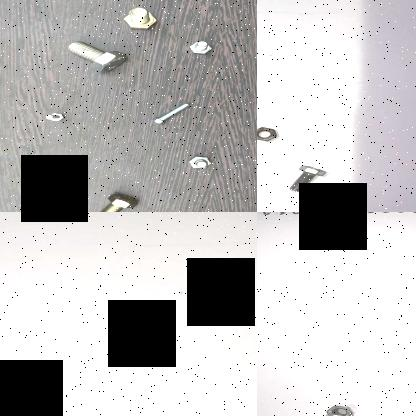Bolts: (61, 38, 130, 78), (273, 162, 338, 198), (84, 190, 138, 212), (148, 98, 193, 124), (117, 6, 161, 30), (182, 38, 216, 60), (184, 153, 210, 171), (40, 110, 66, 122)
NUTS: (0, 391, 73, 416), (5, 358, 72, 379), (317, 404, 358, 416), (257, 124, 282, 143)
